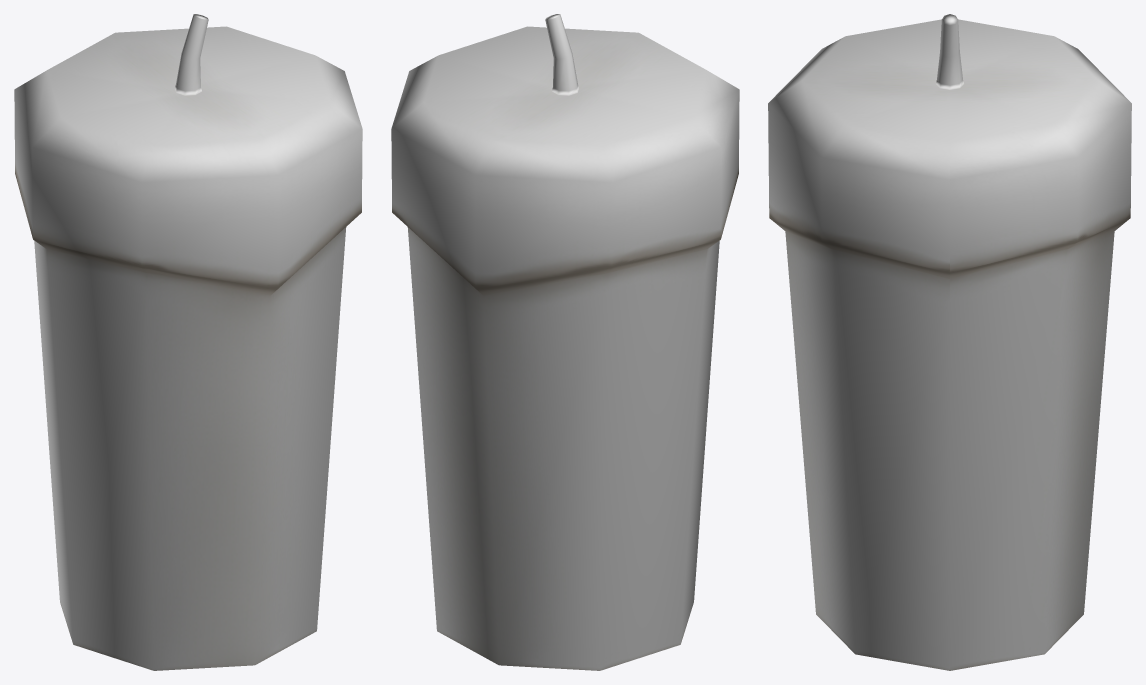
Rendered from FBX_candle.fbx.
3 views of the same model, side by side, from view 1: azimuth 30°, elevation 25°; view 2: azimuth 150°, elevation 25°; view 3: azimuth 270°, elevation 25° (orthographic).
Parts seen in each view (by area): view 1: pCylinder5; view 2: pCylinder5; view 3: pCylinder5.
Part boxes in pixels (bbox=[...]): pCylinder5: bbox=[14, 14, 362, 670]; pCylinder5: bbox=[391, 14, 739, 670]; pCylinder5: bbox=[768, 14, 1131, 670].
Bounding box in the file's own units: 1.22 × 2.24 × 1.23.
